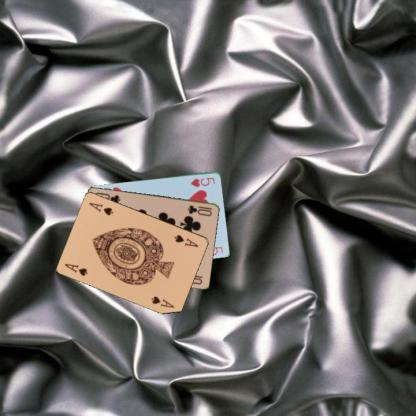10c: (185, 203, 213, 217)
5h: (188, 175, 216, 188)
As: (172, 232, 200, 248), (62, 261, 89, 277)
